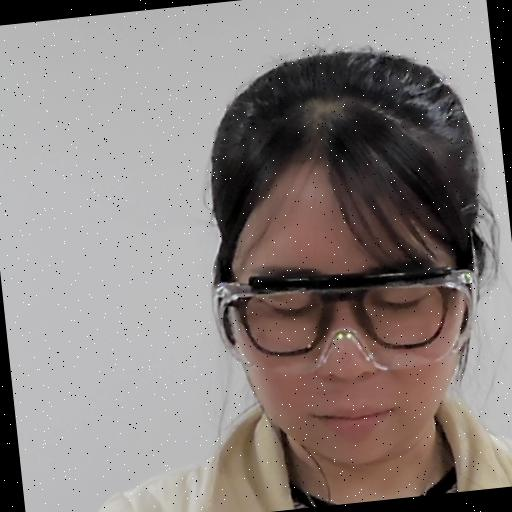glasses: (182, 52, 501, 465)
